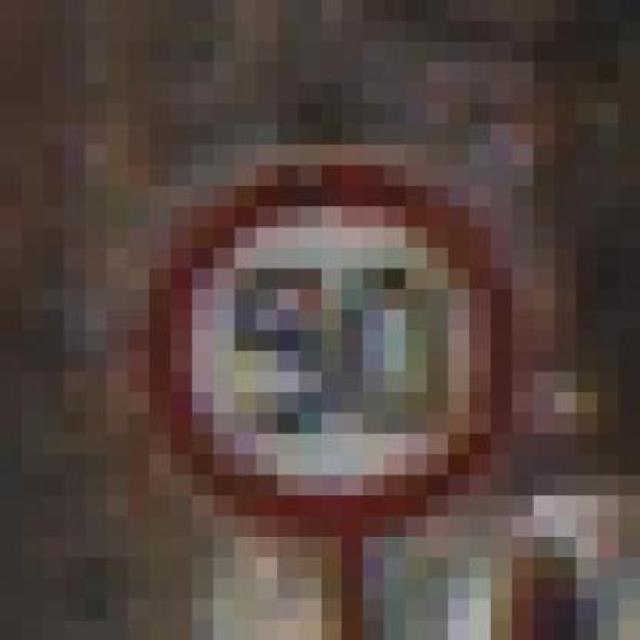50 mph speed limit: (62, 124, 575, 599)
